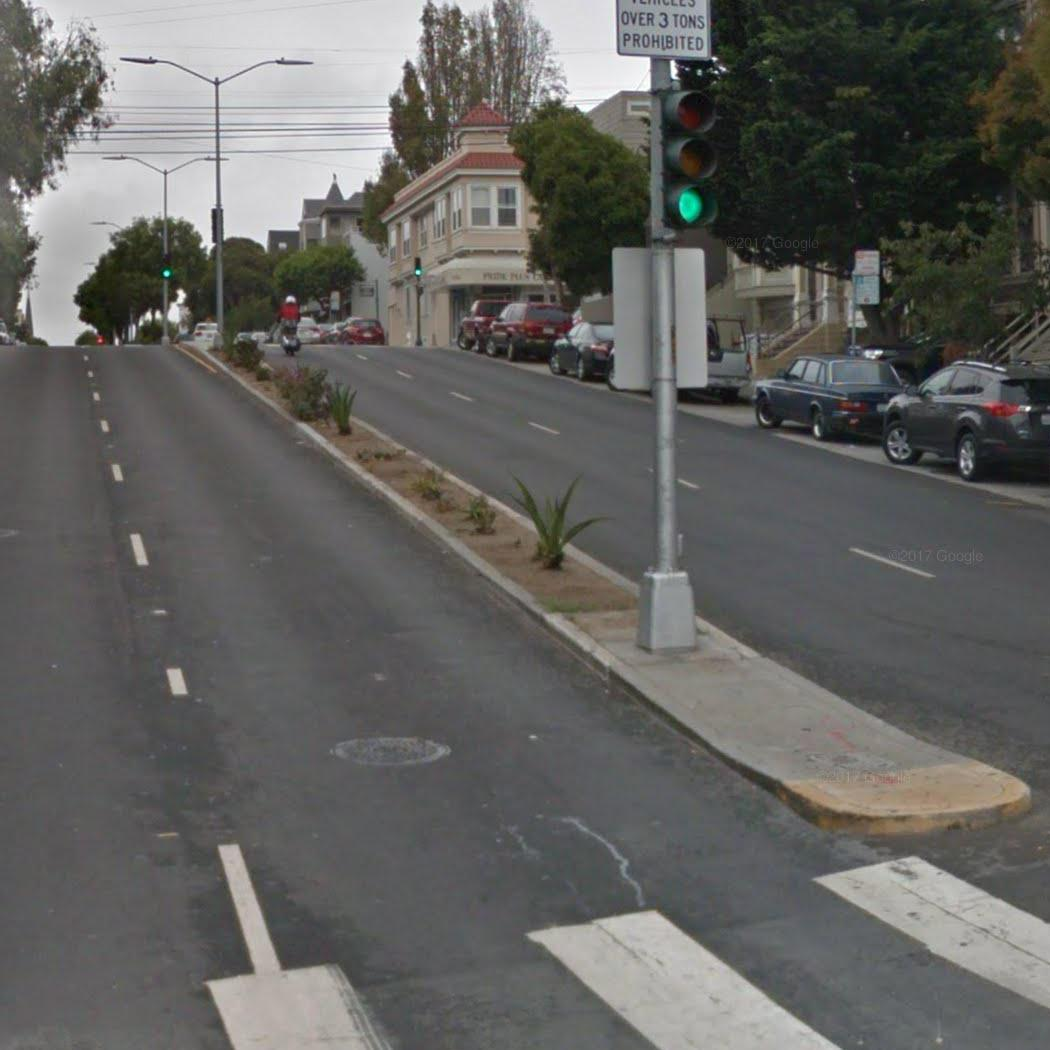2 Hour Parking: (854, 248, 882, 275)
No Parking: (851, 274, 882, 307)
